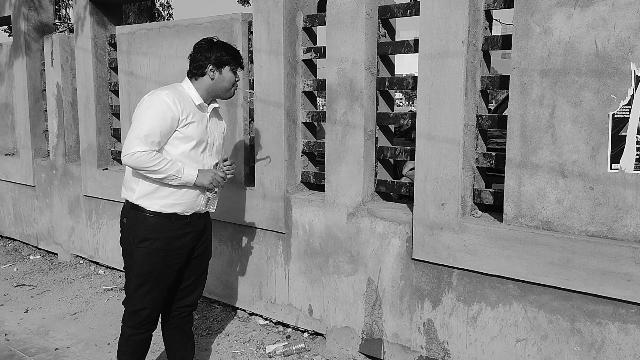spit: (191, 37, 262, 107)
